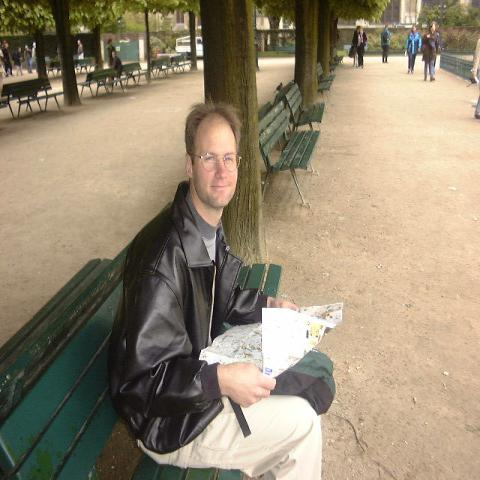car: (176, 35, 204, 57)
